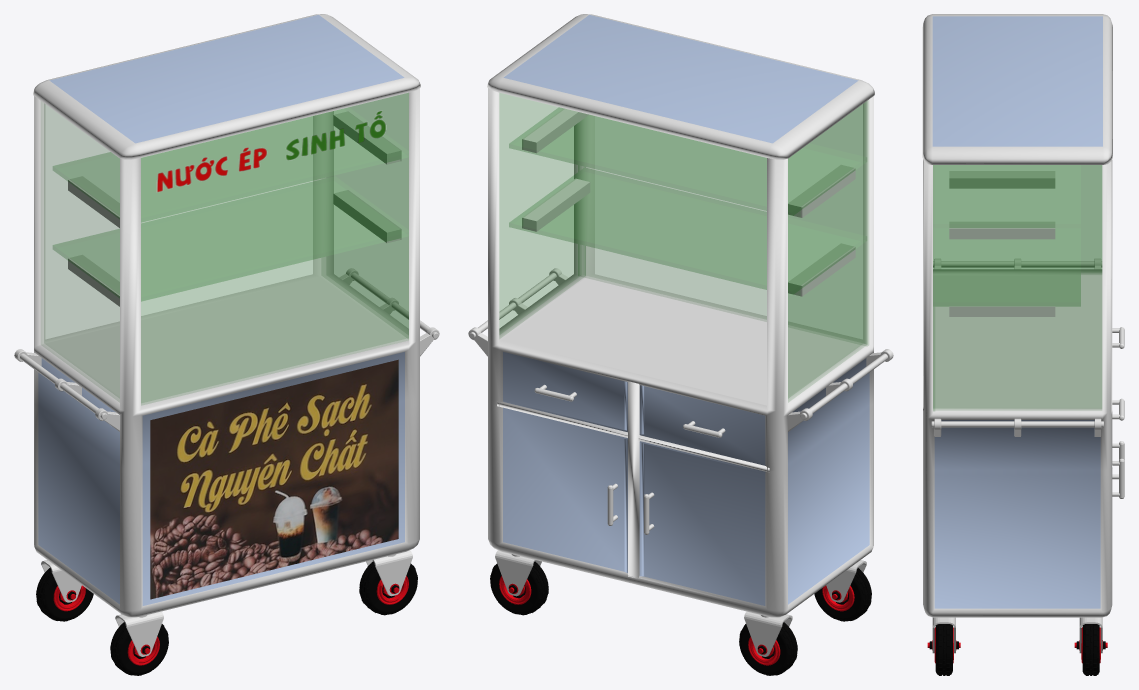
File: street_soft_drink_vietnam_-_xe_ban_nuoc_viet_nam.glb
3 renders of one model, left to right at view 1: azimuth 30°, elevation 25°; view 2: azimuth 150°, elevation 25°; view 3: azimuth 270°, elevation 25°, orthographic.
Parts seen in each view (by area): view 1: Cube.001_0; view 2: Cube.001_0; view 3: Cube.001_0.
Boxes of the visible parts, x1,y1,x2,y2 form: Cube.001_0: (14,14,439,675); Cube.001_0: (468,14,893,675); Cube.001_0: (922,14,1124,675).
Bounding box in the file's own units: 8.67 × 13.03 × 4.49.
8 materials, 2 textured.
